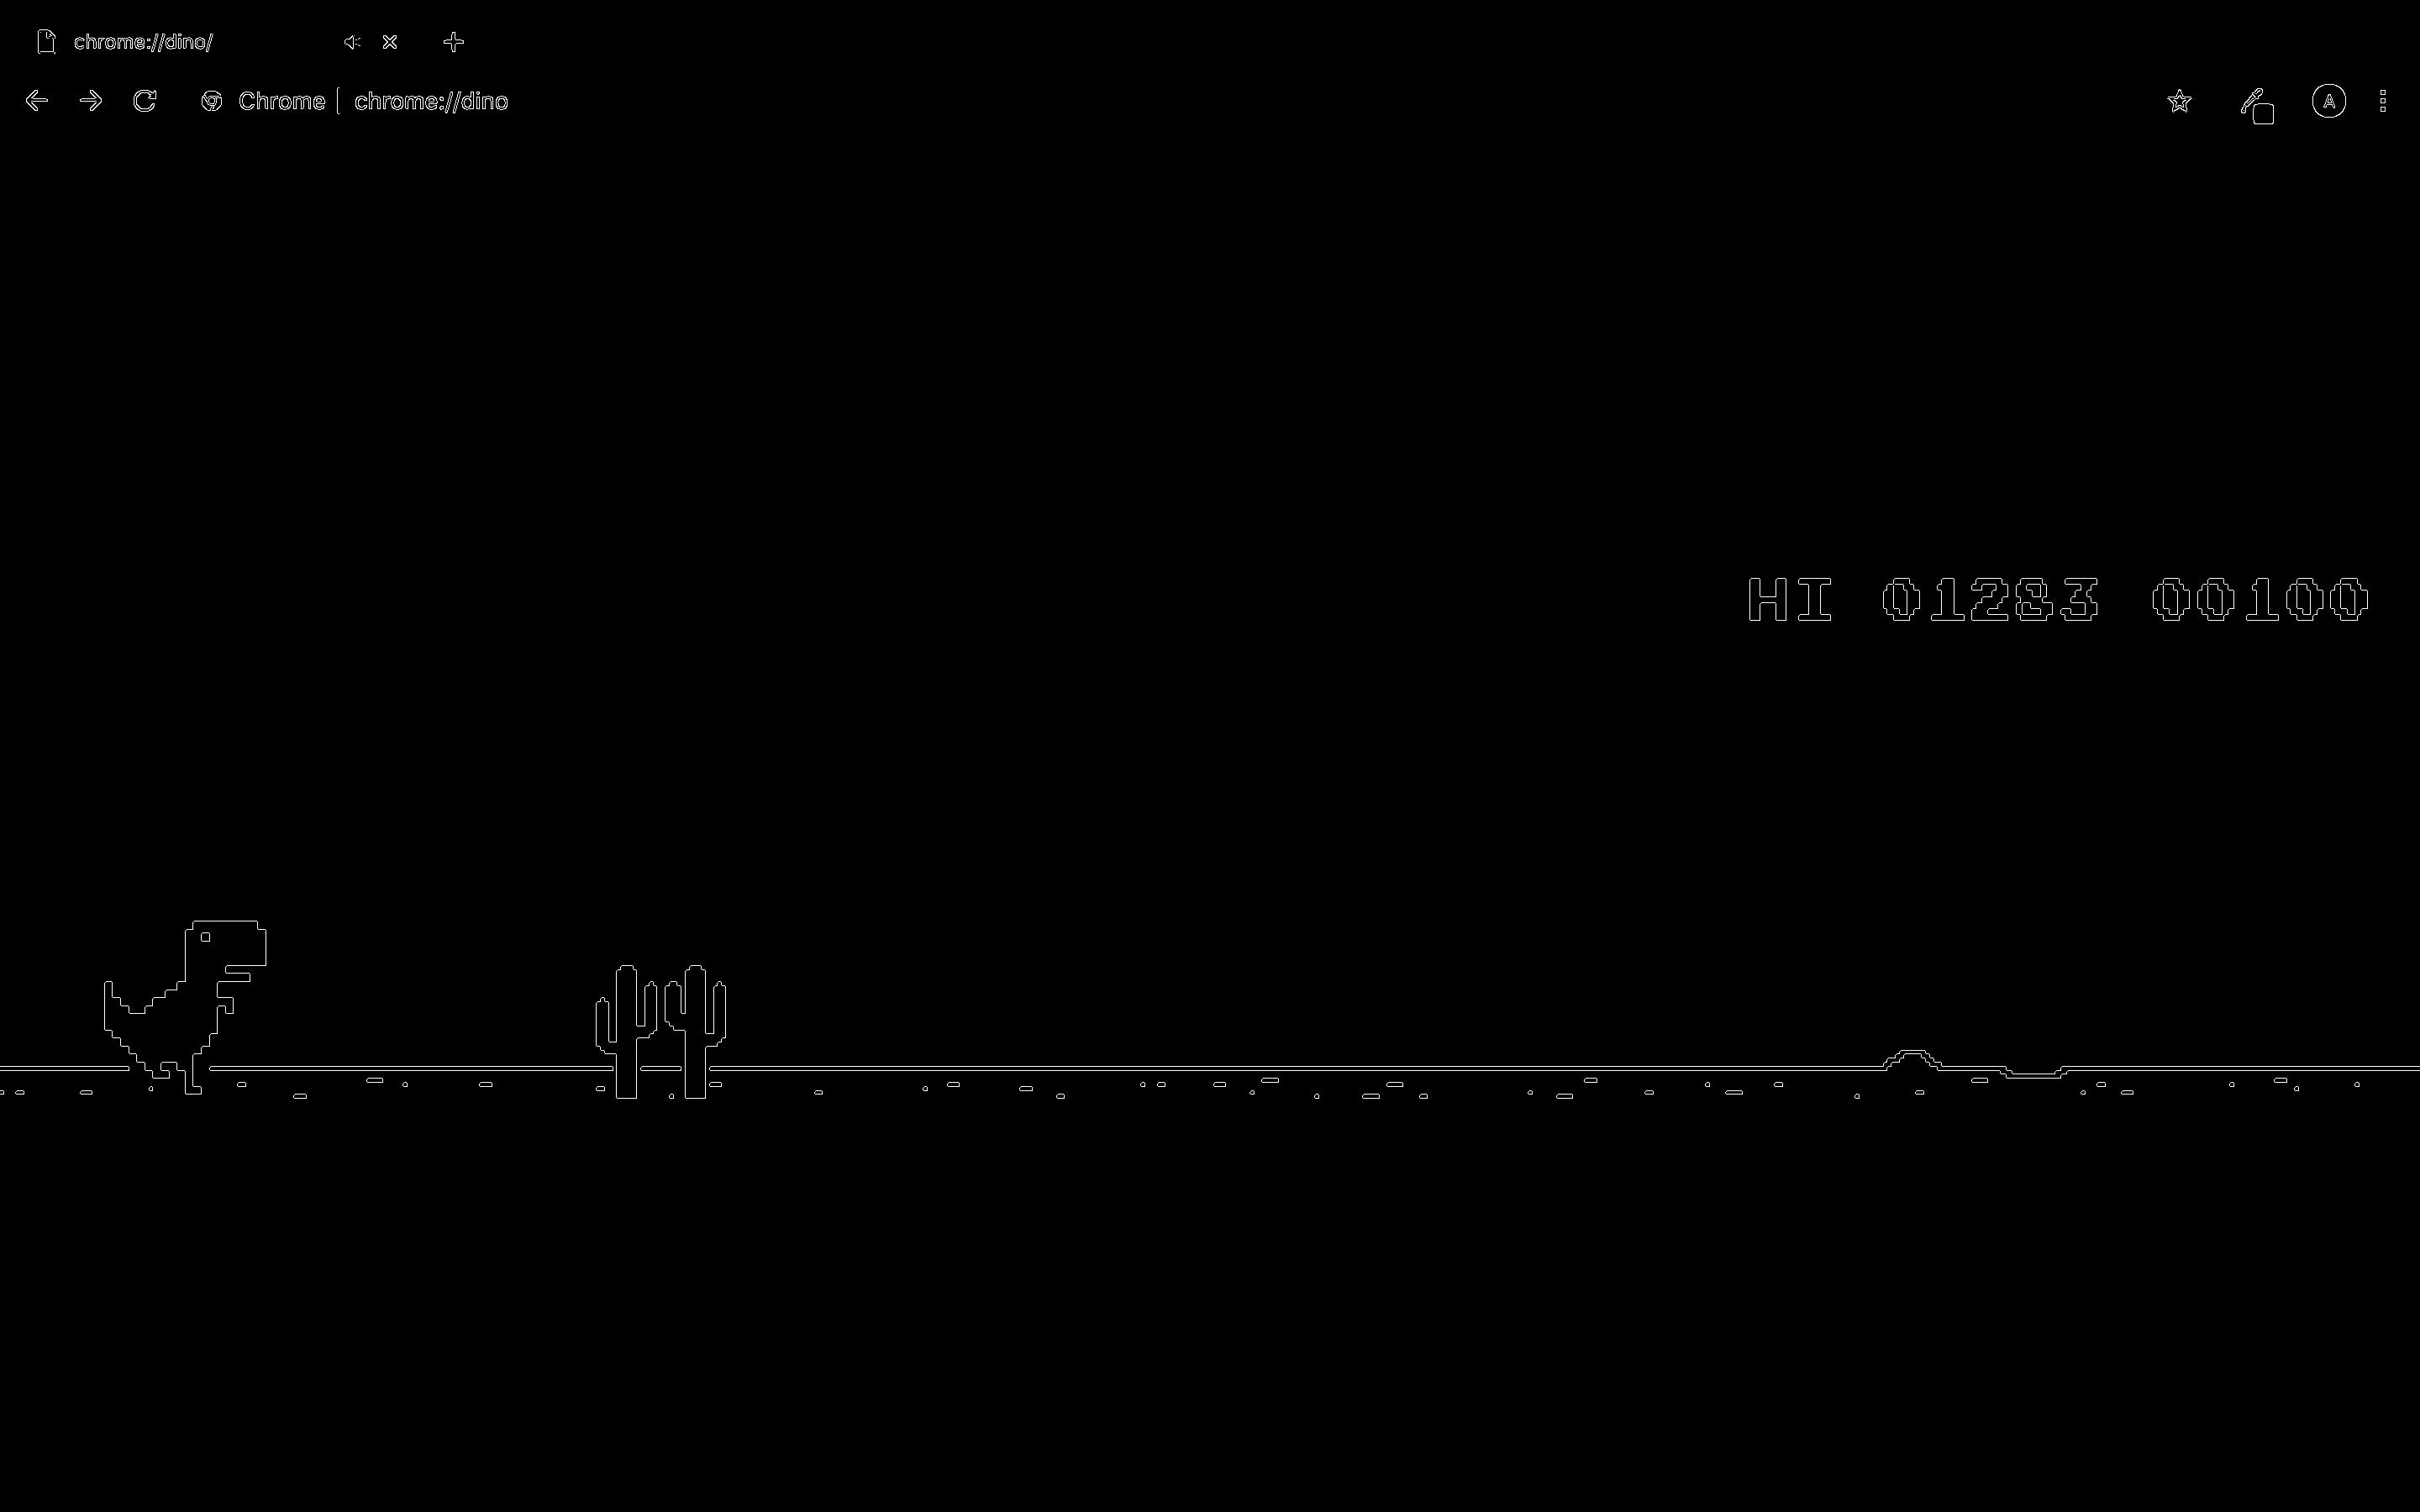Cactus: (667, 967, 746, 1108), (587, 965, 664, 1103)
Dino: (101, 913, 279, 1097)
